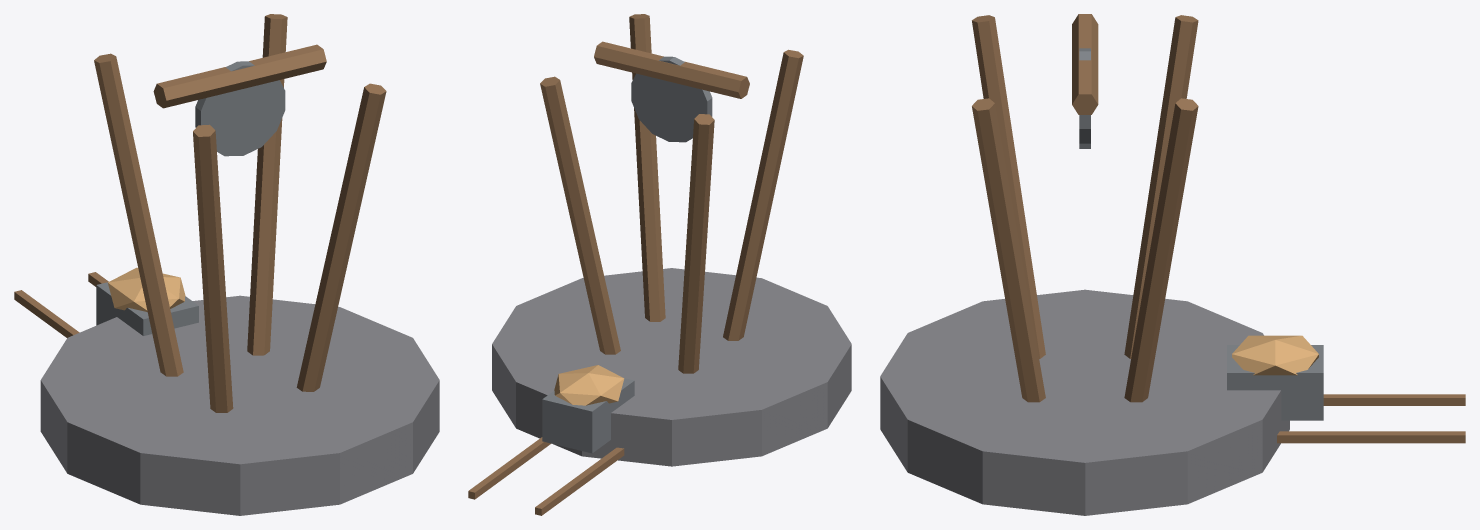
Rendered from mine-shaft.glb.
3 renders of one model, left to right at view 1: azimuth 30°, elevation 25°; view 2: azimuth 150°, elevation 25°; view 3: azimuth 270°, elevation 25°, orthographic. The views are drawn at different scales.
Parts seen in each view (by area): view 1: mine-shaft-hero; view 2: mine-shaft-hero; view 3: mine-shaft-hero.
Part boxes in pixels (bbox=[...]): mine-shaft-hero: bbox=[14, 14, 439, 515]; mine-shaft-hero: bbox=[468, 14, 851, 515]; mine-shaft-hero: bbox=[880, 14, 1465, 515].
Size of the model in its own units: 2.8 by 2.85 by 4.
